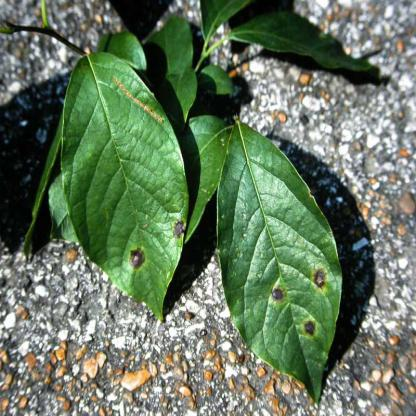tomato leaf bacterial spot: (212, 119, 359, 413), (58, 51, 198, 329)
